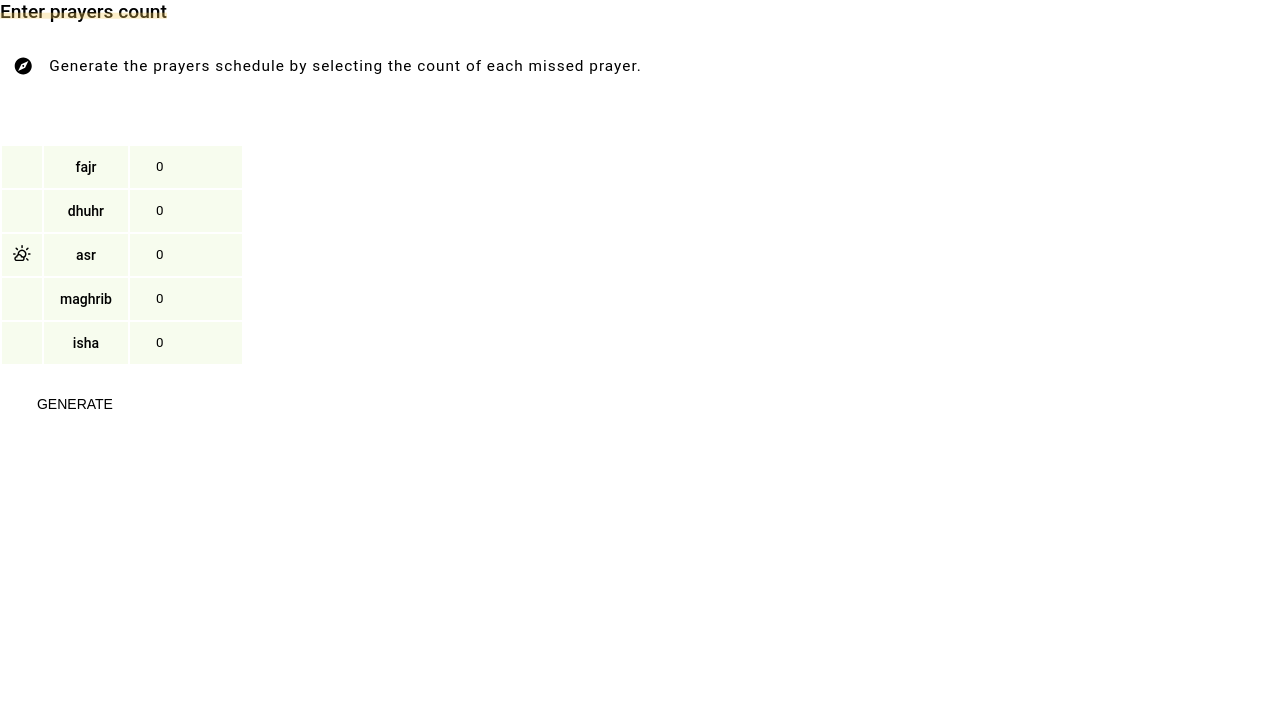
Test: Create schedule by prayers count › Should generate schedule with download button
The width and height of the screenshot is (1280, 720).
Type "1" into the number field with test id "prayer-fajr" at coordinates (186, 167), box [146, 154, 226, 180]
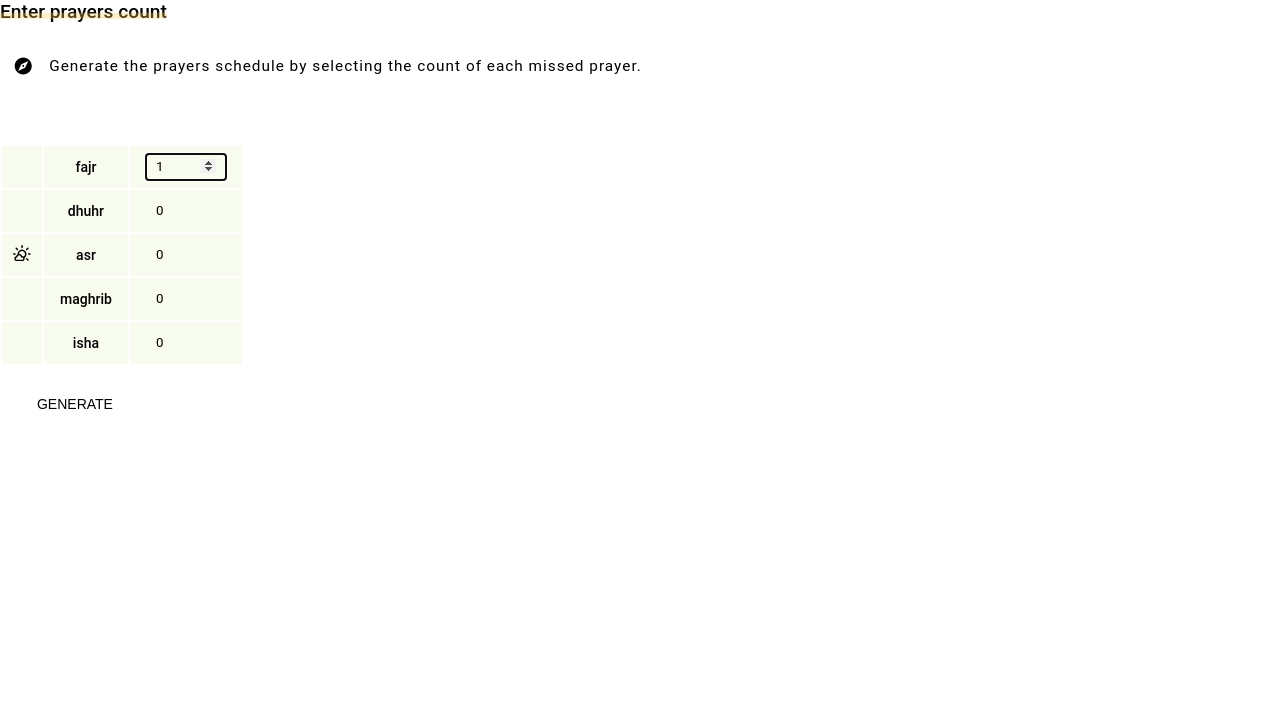
Type "2" into the number field labelled "dhuhr" at coordinates (186, 211), box [146, 198, 226, 224]
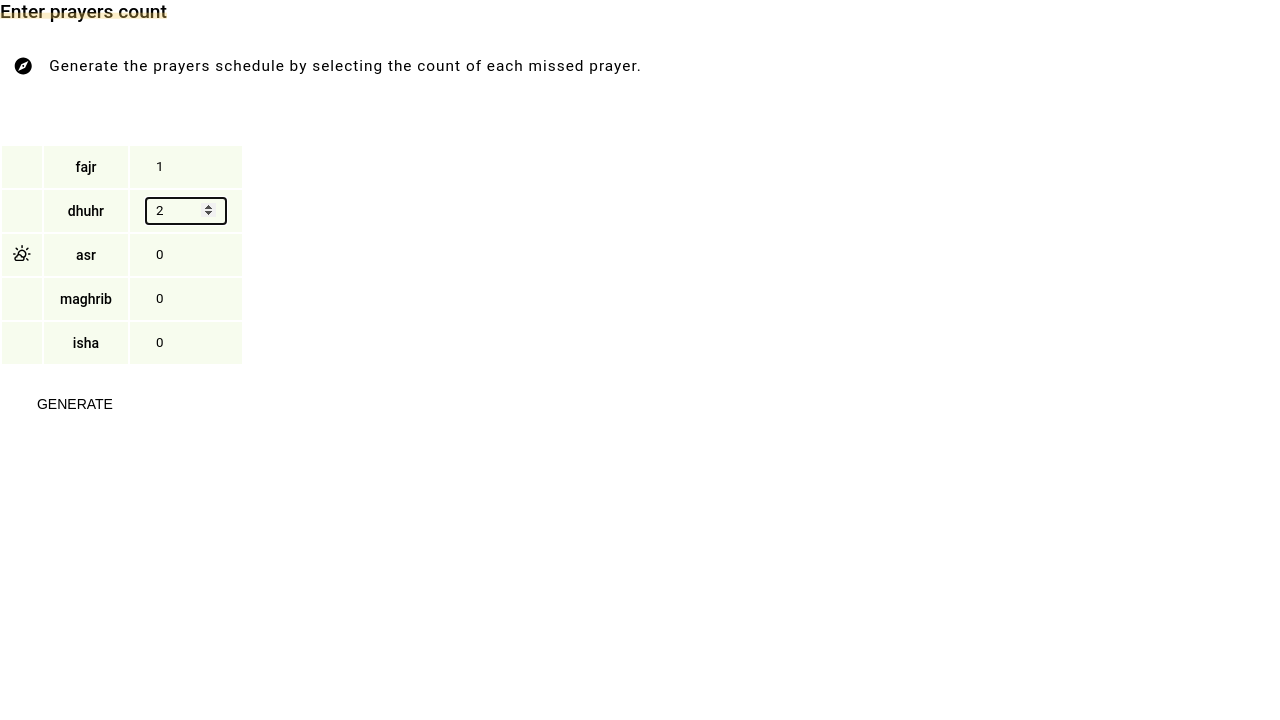
Type "3" into the number field labelled "asr" at coordinates (186, 255), box [146, 242, 226, 268]
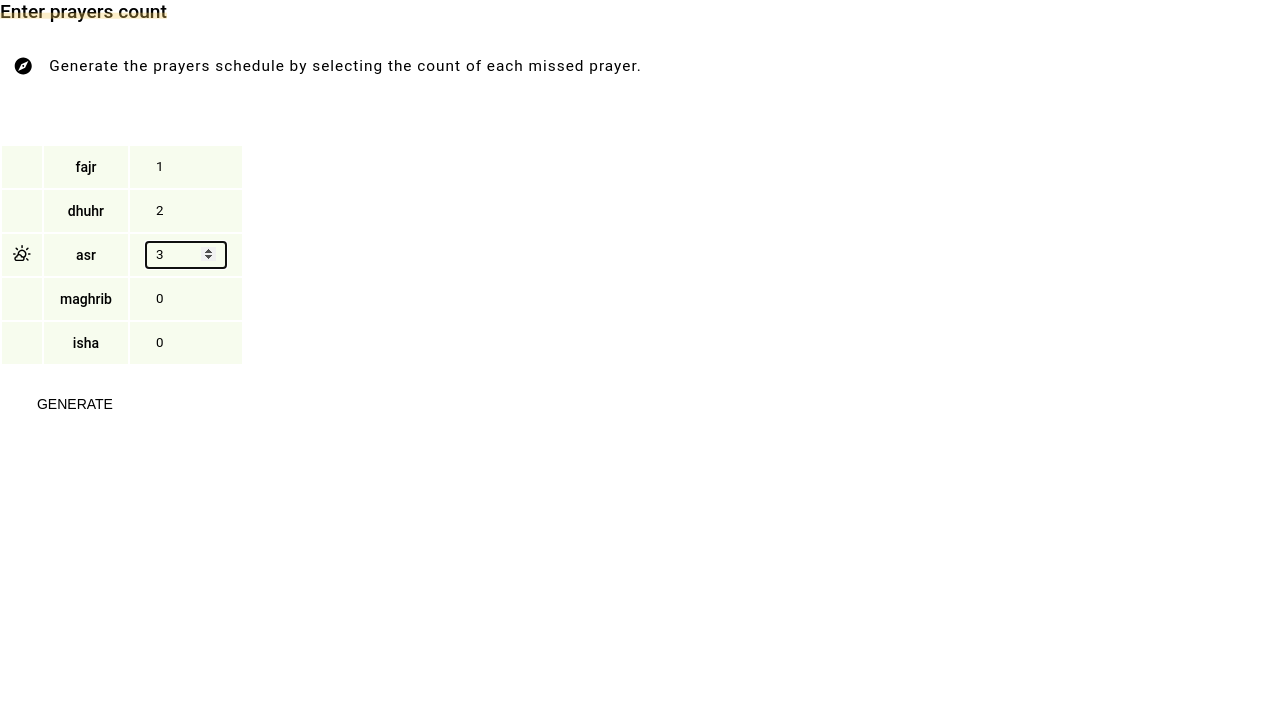
Type "4" into the number field labelled "maghrib" at coordinates (186, 299), box [146, 286, 226, 312]
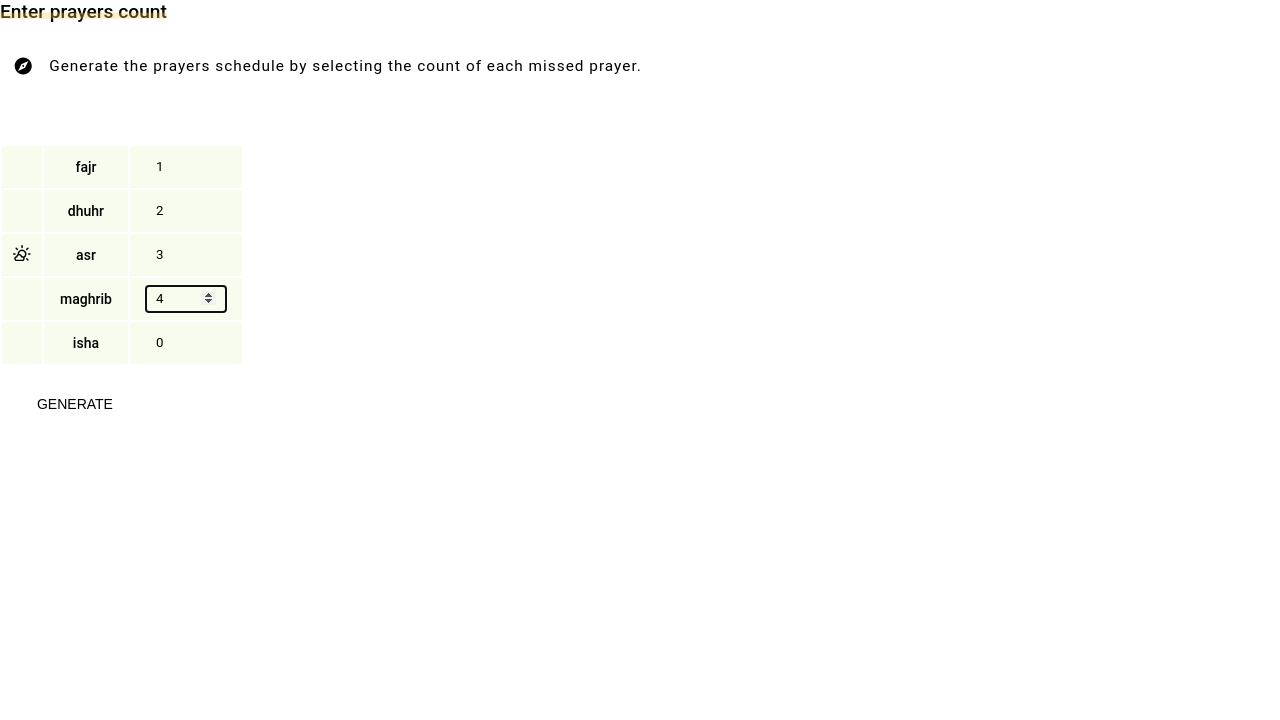
Type "5" into the number field labelled "isha" at coordinates (186, 343), box [146, 330, 226, 356]
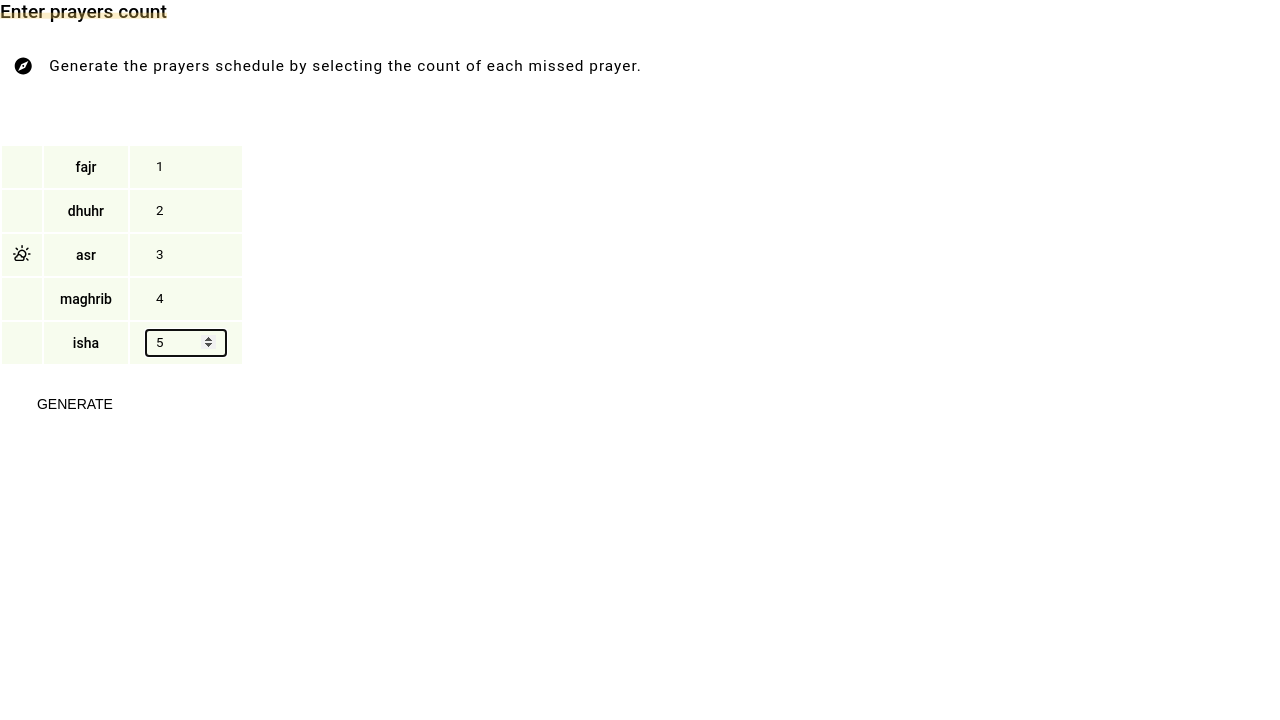
Click the button with test id "generate-form-submit" at coordinates (75, 404), box [0, 386, 150, 422]
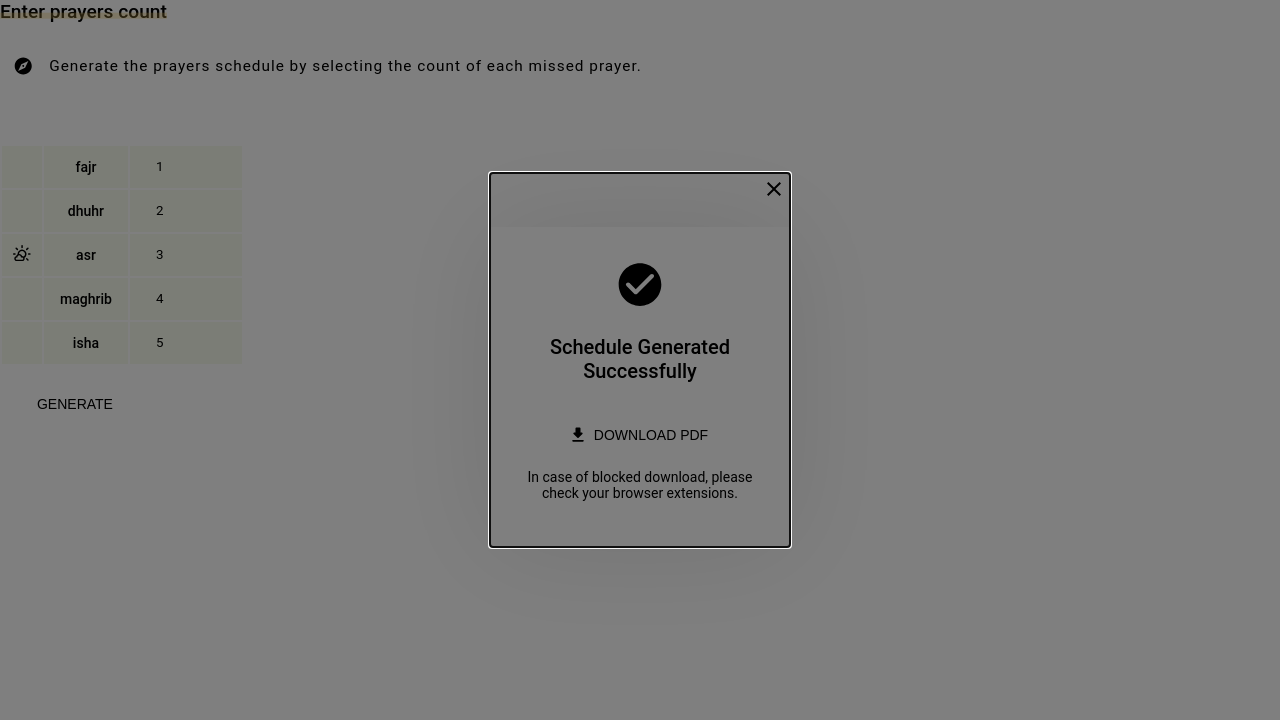
Result: the message with test id "download-schedule" is shown at [514, 259, 766, 515]
Result: the button with test id "download-schedule-btn" is shown at [553, 415, 727, 455]
